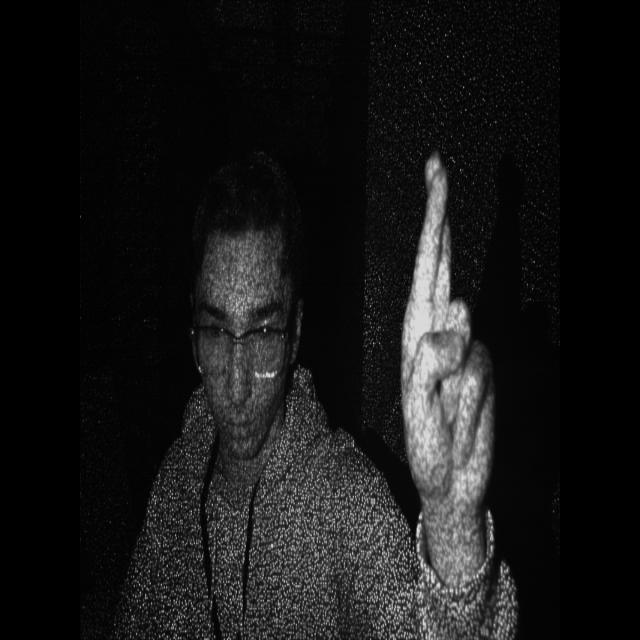R: (387, 124, 530, 570)
